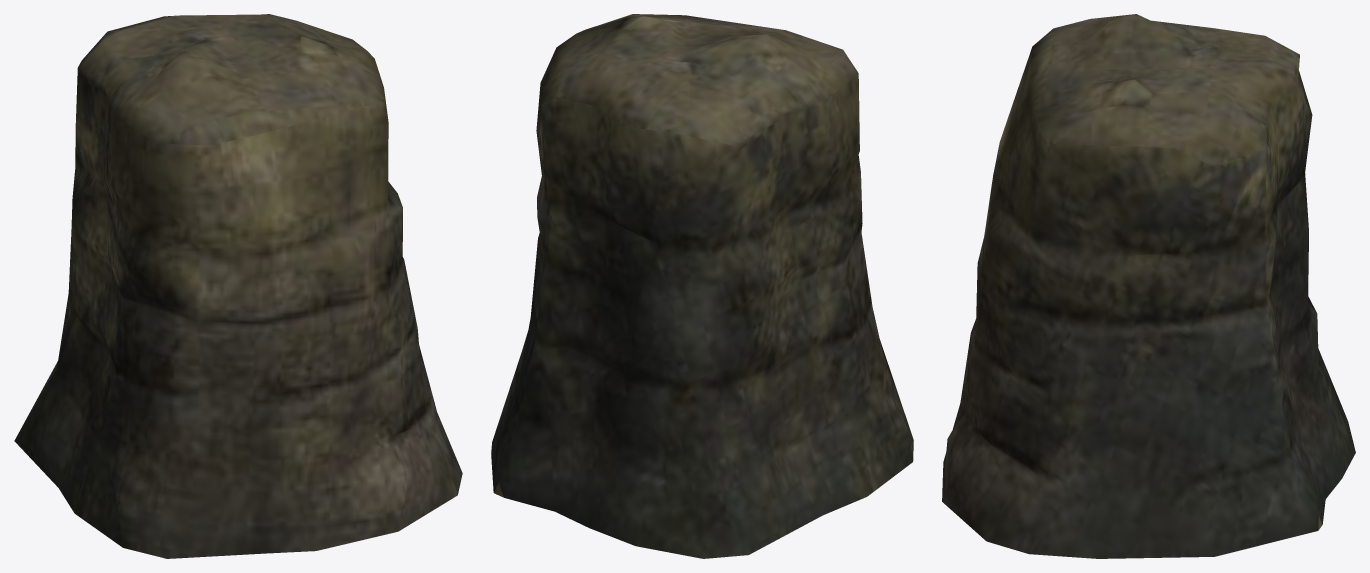
3 views of the same model, side by side, from view 1: azimuth 30°, elevation 25°; view 2: azimuth 150°, elevation 25°; view 3: azimuth 270°, elevation 25° (orthographic).
Parts seen in each view (by area): view 1: cliff1; view 2: cliff1; view 3: cliff1.
Part boxes in pixels (x1,y1,x2,y2): cliff1: (14, 14, 462, 558); cliff1: (491, 14, 913, 558); cliff1: (942, 14, 1355, 558).
Size of the model in its own units: 8.36 by 10.08 by 8.81.
1 material, 1 textured.
